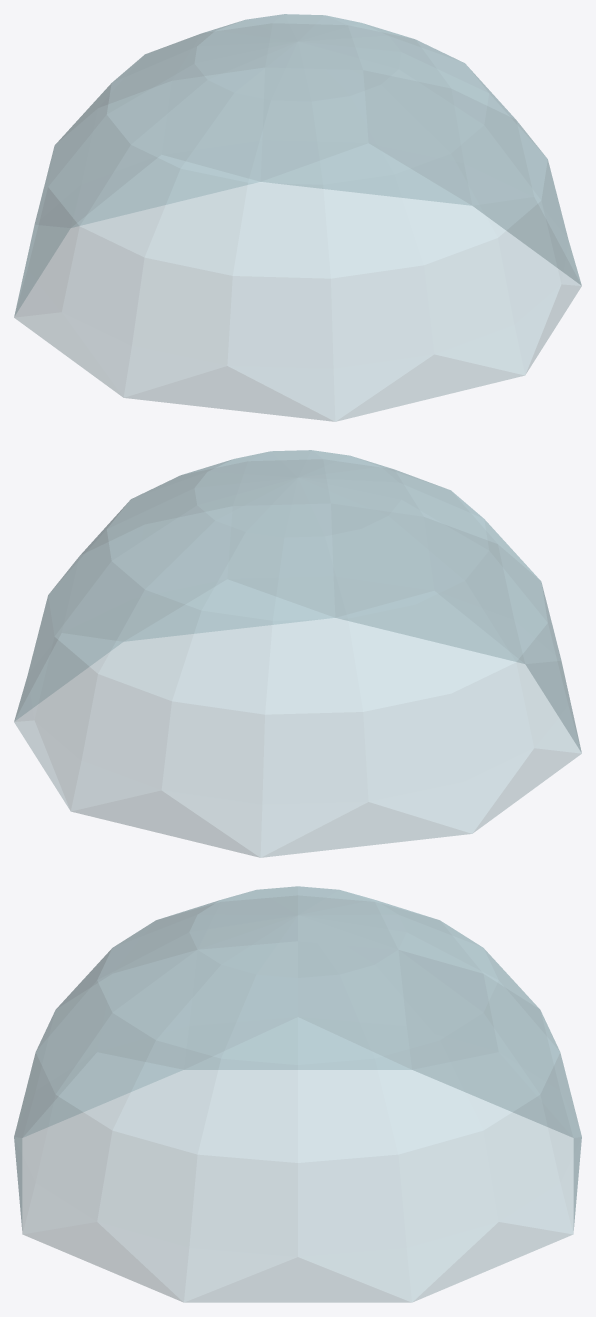
Rendered from kk_dome.obj.
3 renders of one model, top to bottom at view 1: azimuth 30°, elevation 25°; view 2: azimuth 150°, elevation 25°; view 3: azimuth 270°, elevation 25°, orthographic. The views are drawn at different scales.
Size of the model in its own units: 15.2 by 8 by 15.2.
